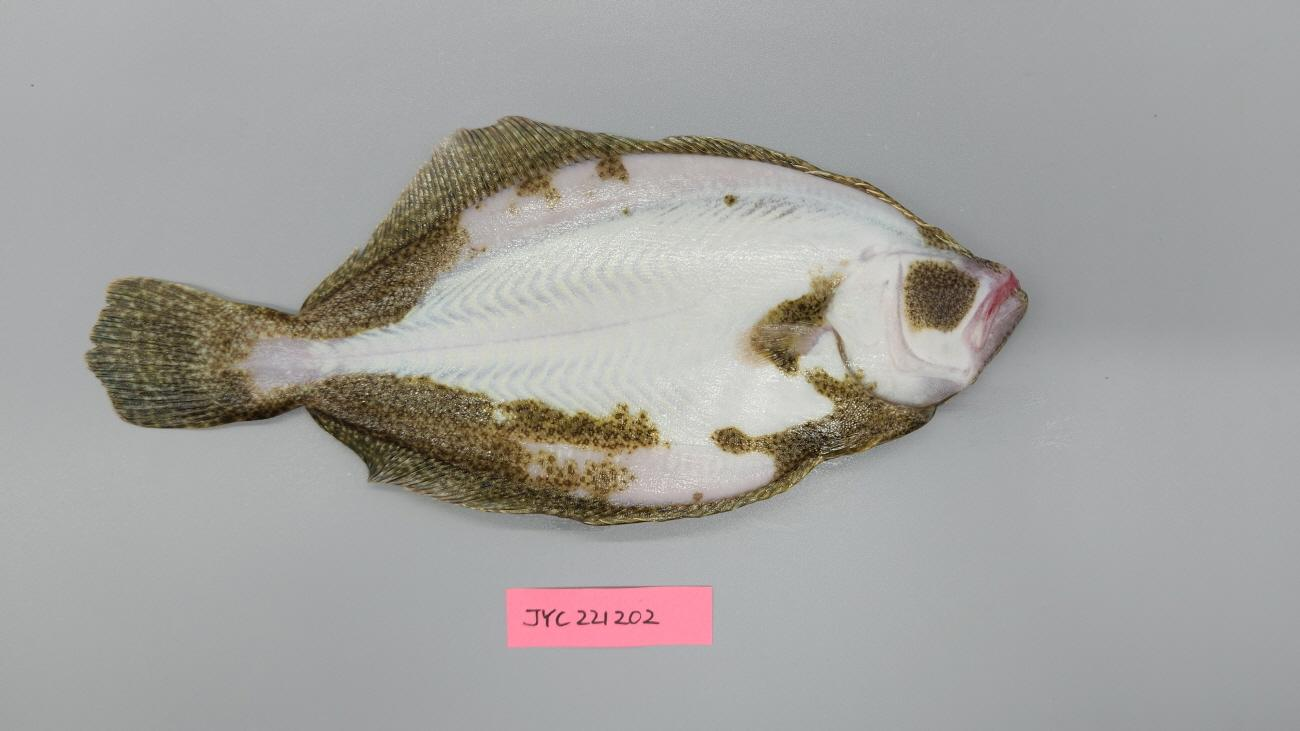MAMOU: (984, 268, 1019, 322)
MAOUY: (84, 114, 1028, 527)
